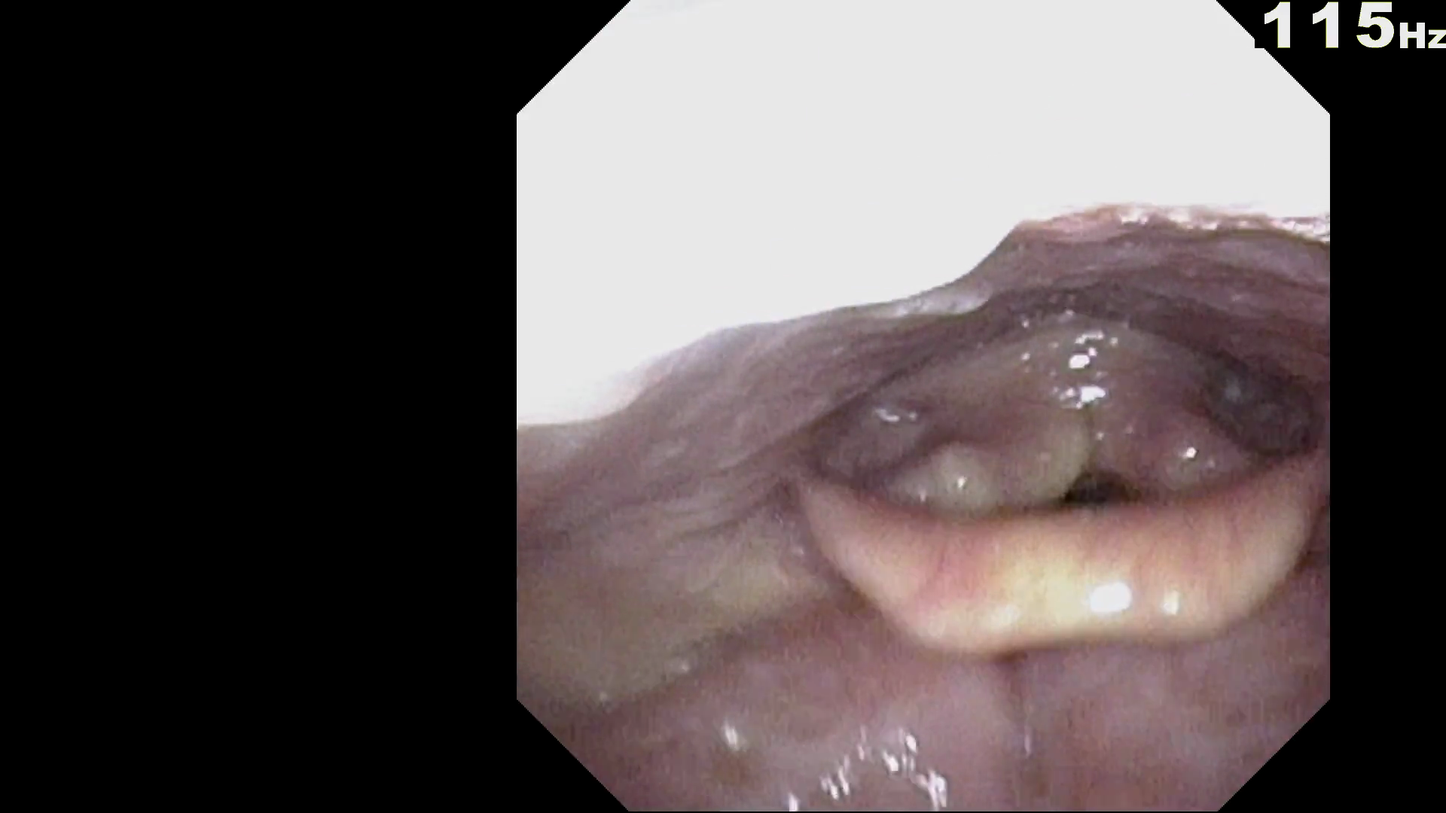epiglottis: (779, 428, 1304, 667)
